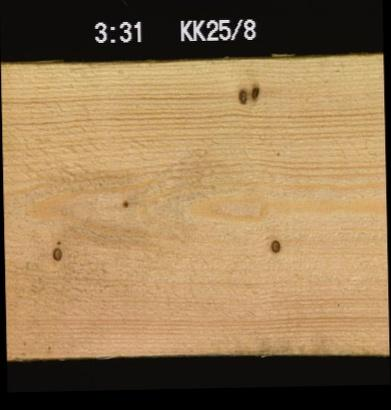dry_knot: (268, 237, 280, 252), (50, 245, 61, 260), (237, 86, 246, 103), (249, 83, 259, 98)
small_knot: (120, 196, 129, 207)
